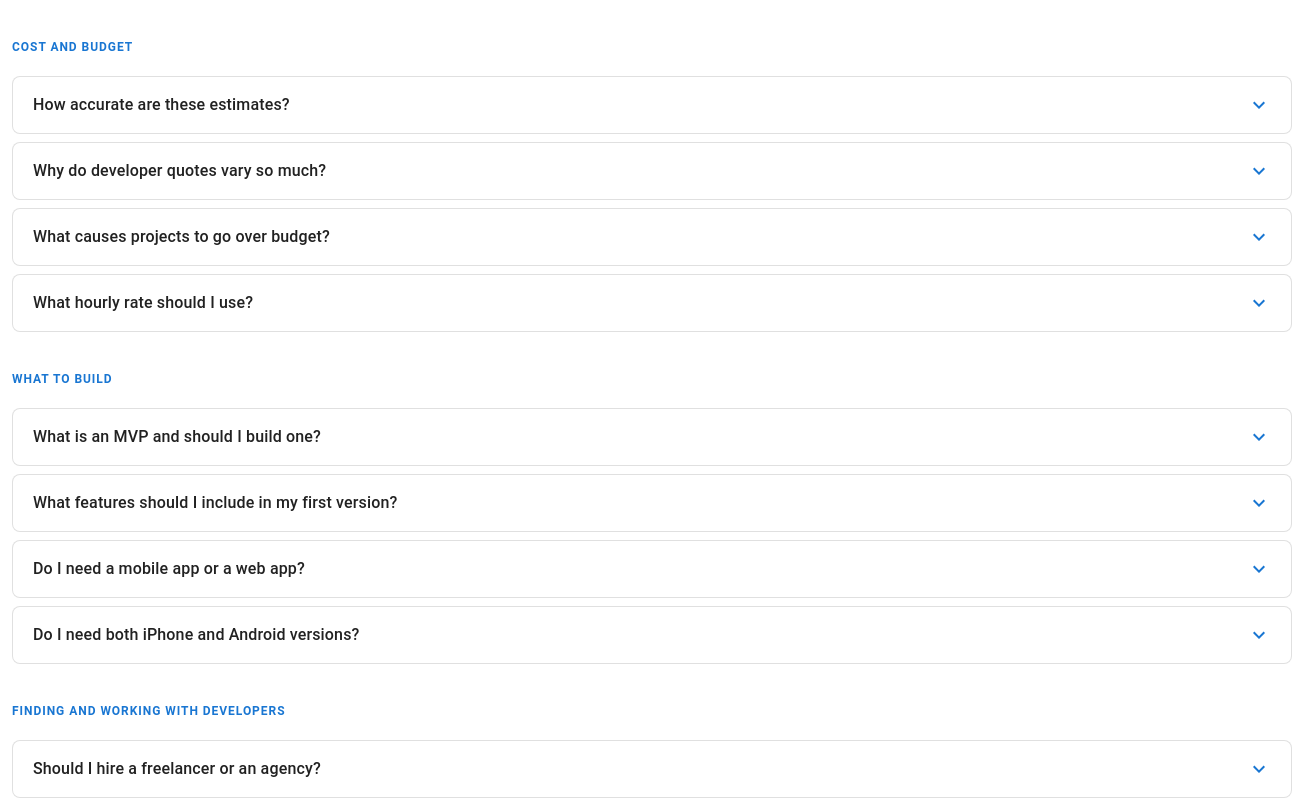
FaqContent › accordion expand behavior › clicking an accordion summary button expands it
This screenshot has width=1304, height=800.
Click the button "How accurate are these estimates?": [161, 104] box [13,77,1291,133]
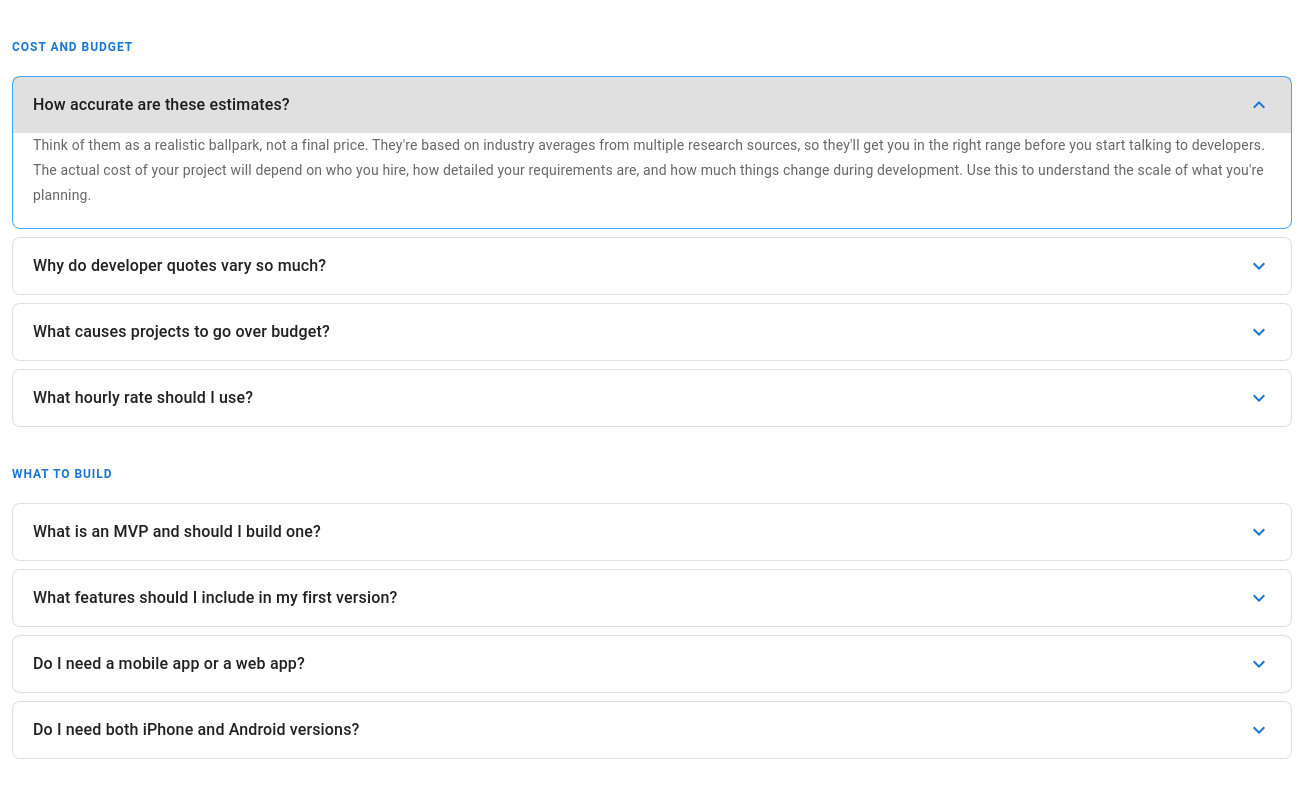
Expected: the button "How accurate are these estimates?" is expanded, [13,77,1291,133]
